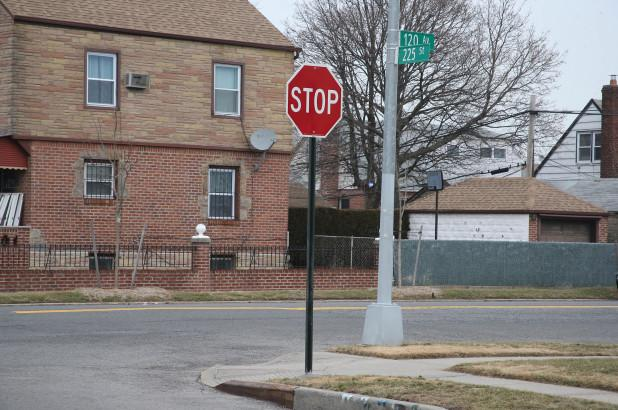Pole: (306, 144, 316, 369), (434, 191, 439, 239)
Sign: (284, 62, 344, 137)
